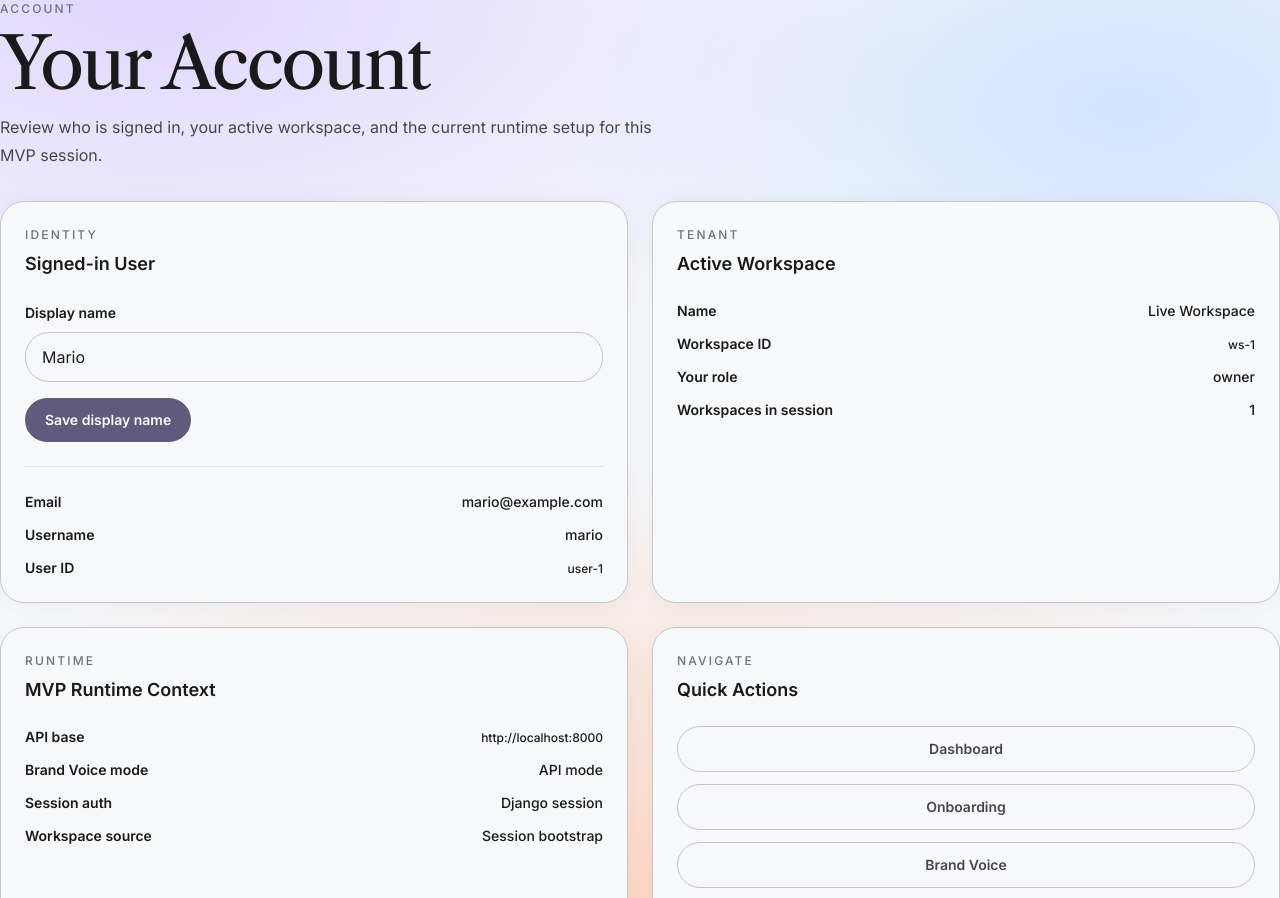
Test case: AccountShell › saves a trimmed display name
This screenshot has width=1280, height=898.
Step 1. Replace the text in the field labelled "Display name" with "  Mario S  " → (314,357), box x1=25 y1=332 x2=603 y2=382
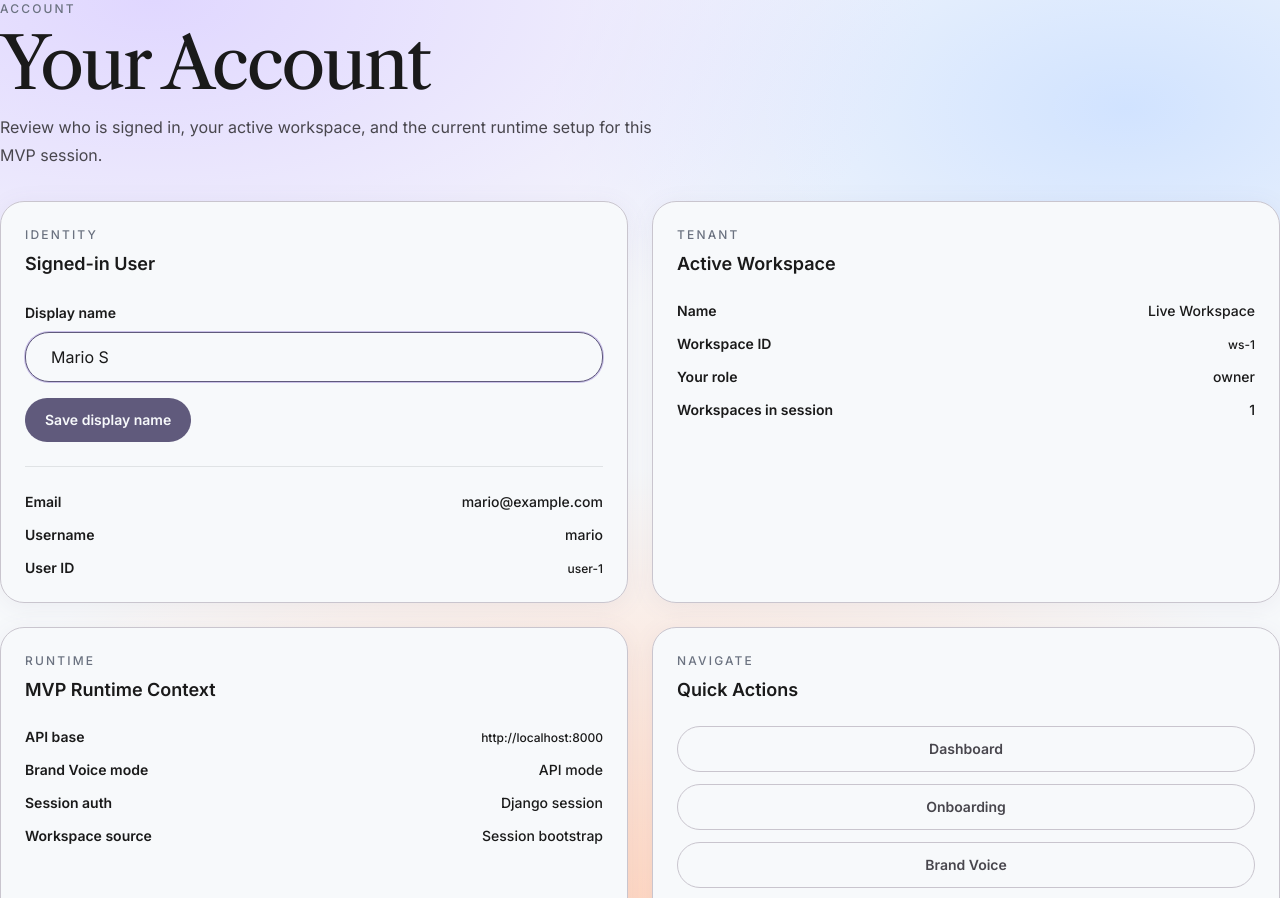
Step 2. Click the button "Save display name" → (108,420), box x1=25 y1=398 x2=191 y2=442
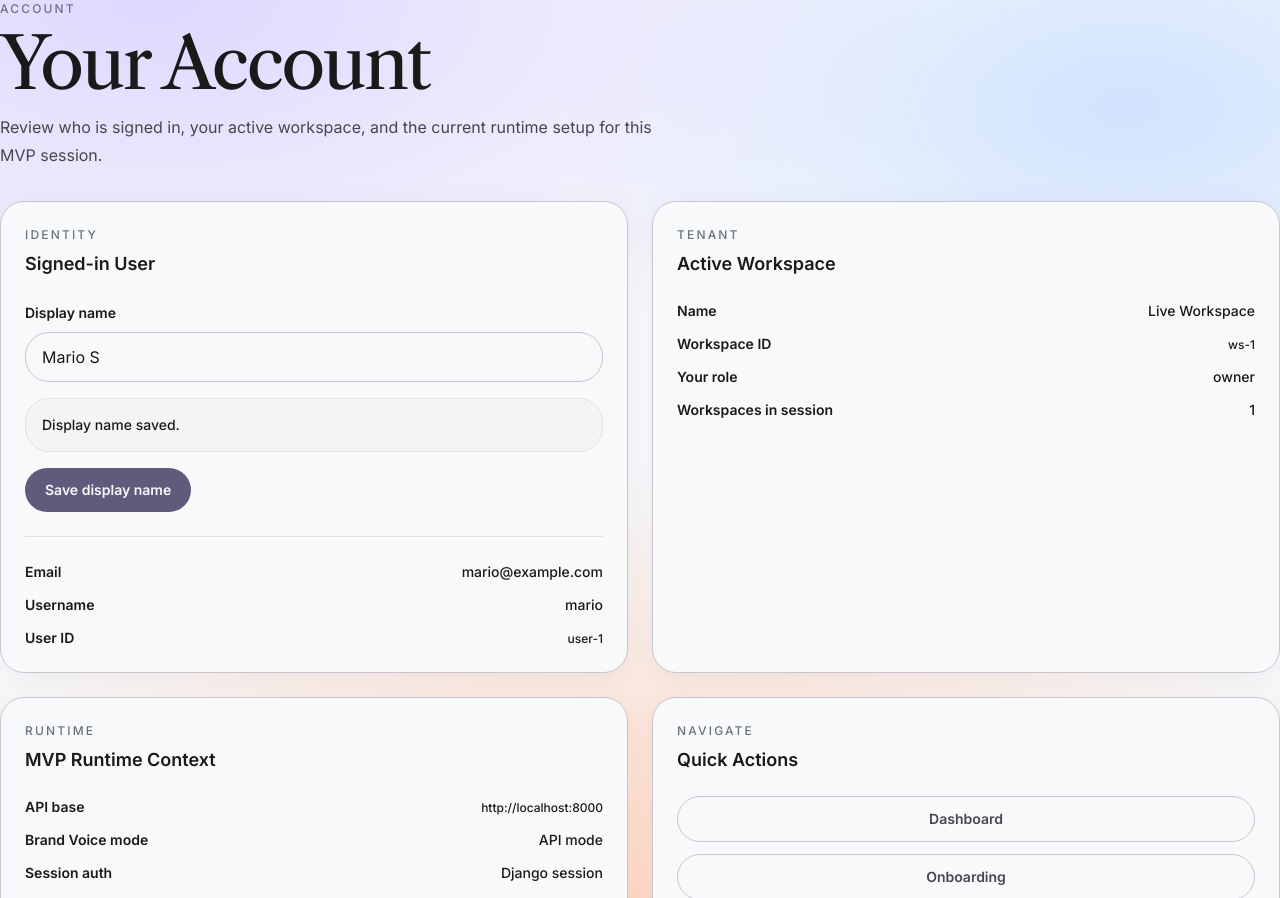
Check: the text "Display name saved." is shown, box x1=25 y1=398 x2=603 y2=452
